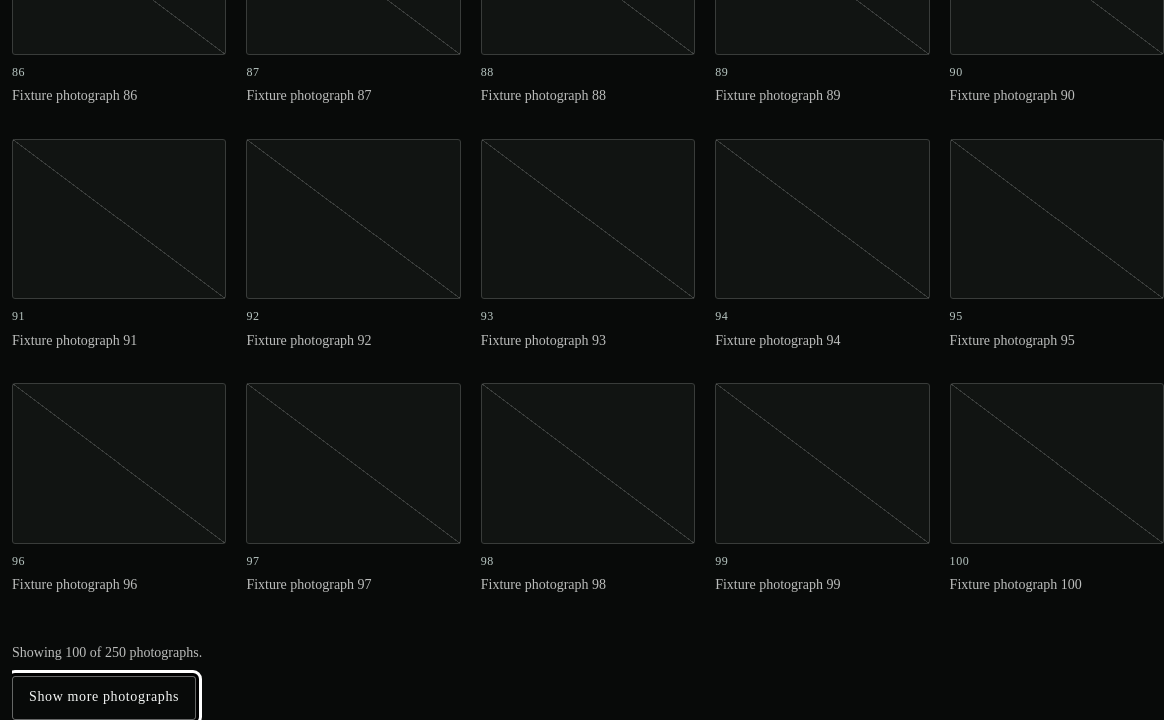
Test: SeriesSequence › ends with every photograph shown, the control gone, and focus on the first new entry if the control had it
(page scrolled)
Click the button "Show more photographs".
click(104, 698)  # box [12, 676, 196, 719]
(page scrolled)
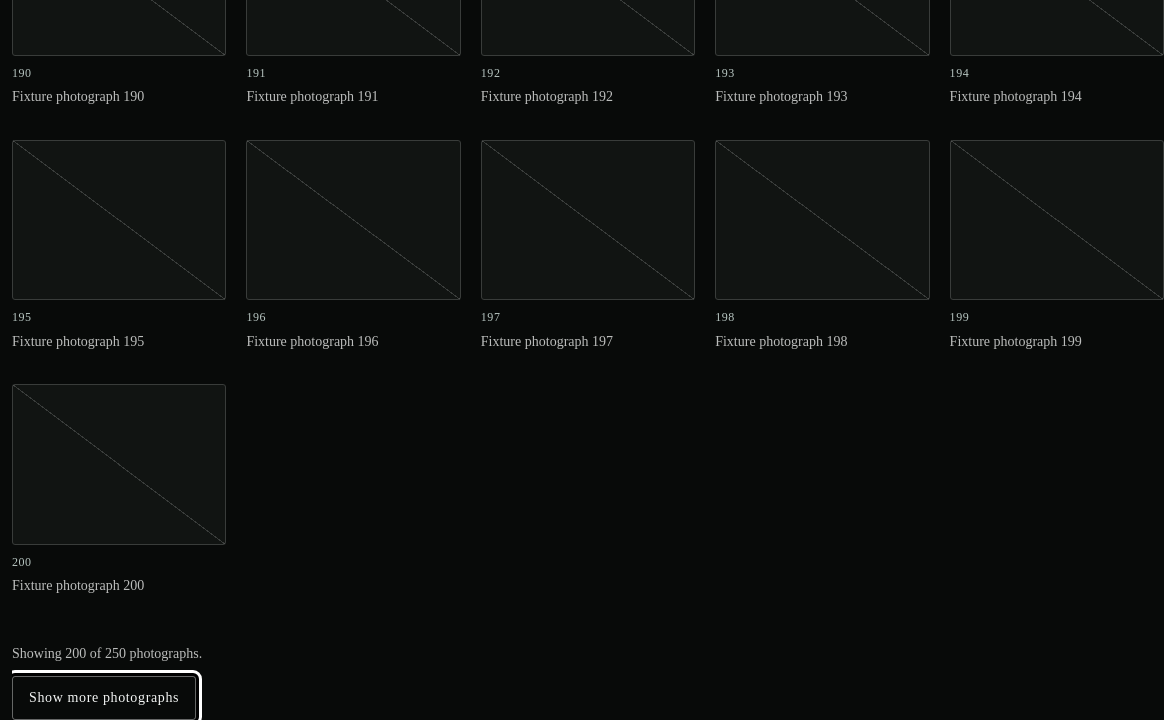
Click the button "Show more photographs".
click(104, 698)  # box [12, 676, 196, 719]
(page scrolled)
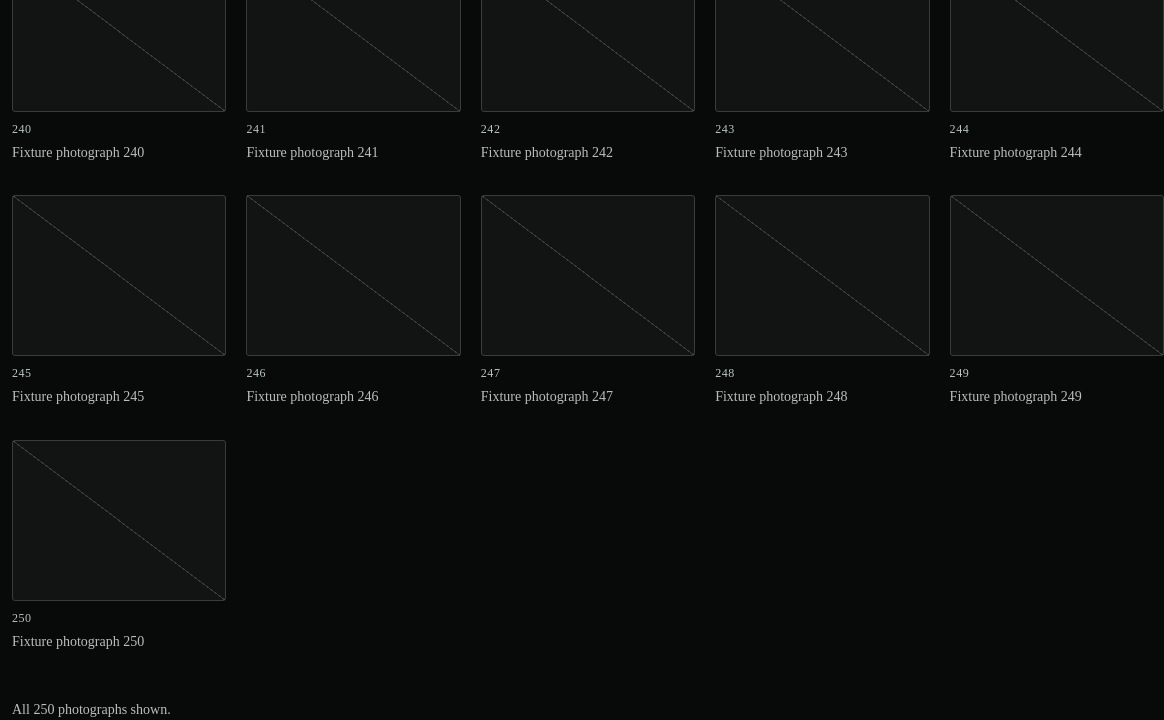
Check: the button "Show more photographs" is gone
